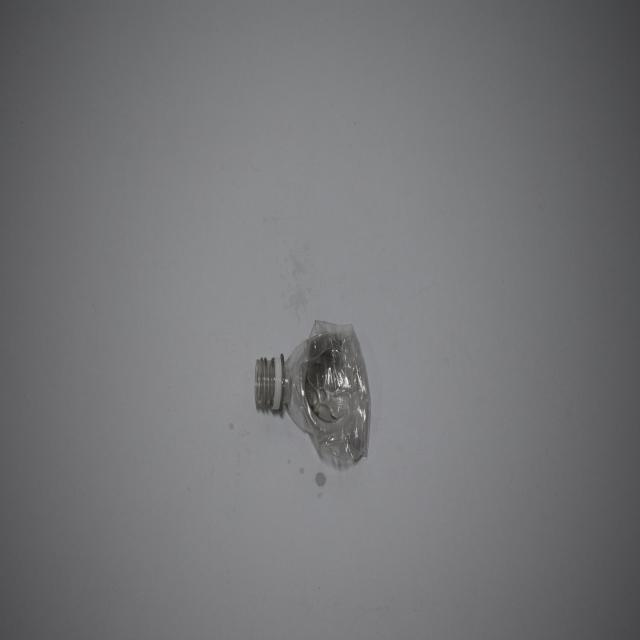bottle: (251, 326, 372, 454)
